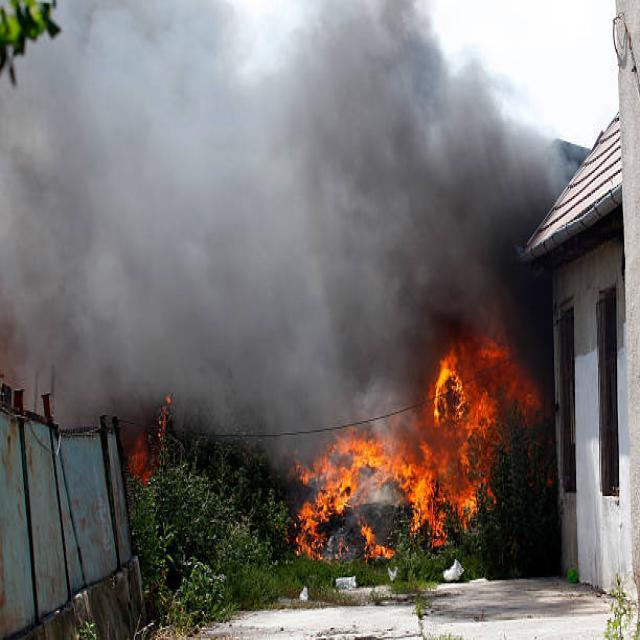Fire: (302, 423, 458, 561), (418, 347, 530, 510)
Smoke: (28, 44, 332, 460), (302, 7, 521, 422), (96, 0, 311, 122)
